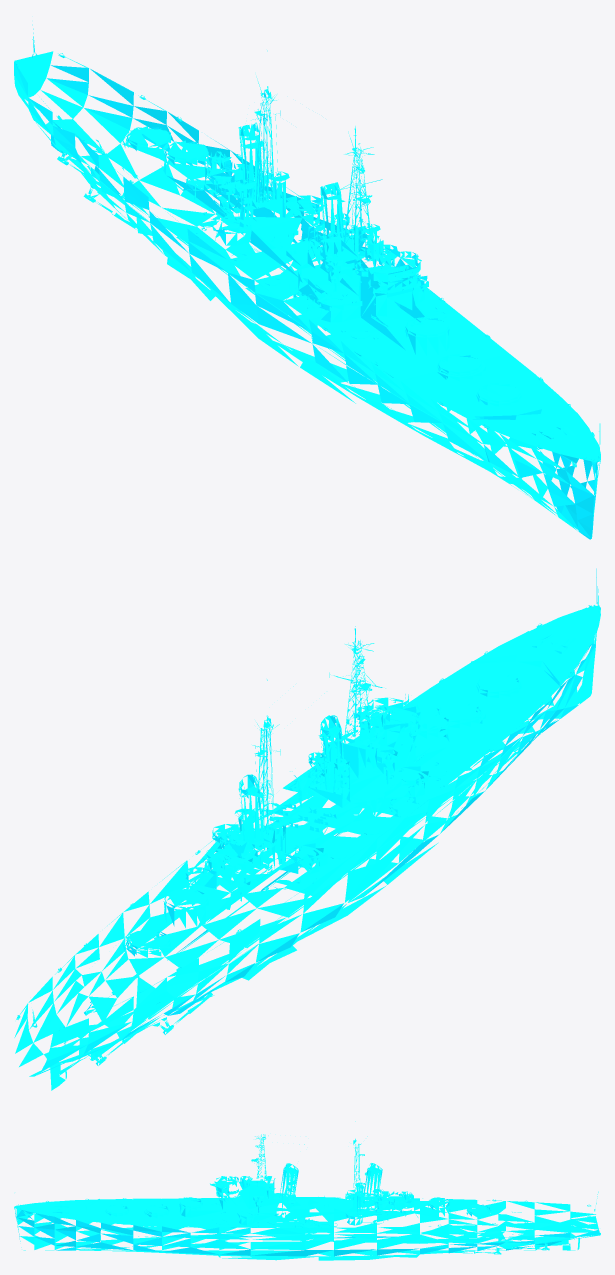
File: Brisbane.glb
The picture shows the model from 3 angles, top to bottom: view 1: azimuth 30°, elevation 25°; view 2: azimuth 150°, elevation 25°; view 3: azimuth 270°, elevation 25°; orthographic projection. The views are drawn at different scales.
Bounding box in the file's own units: 1.57 × 3.11 × 12.63.
